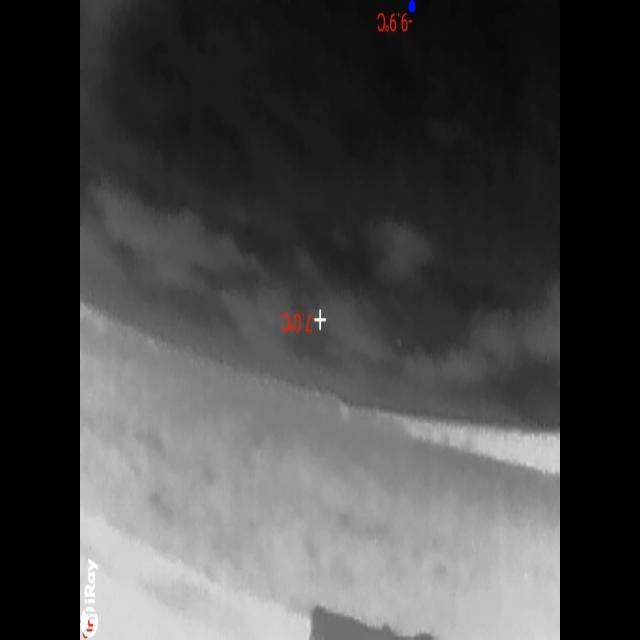drone: (397, 335, 403, 351)
